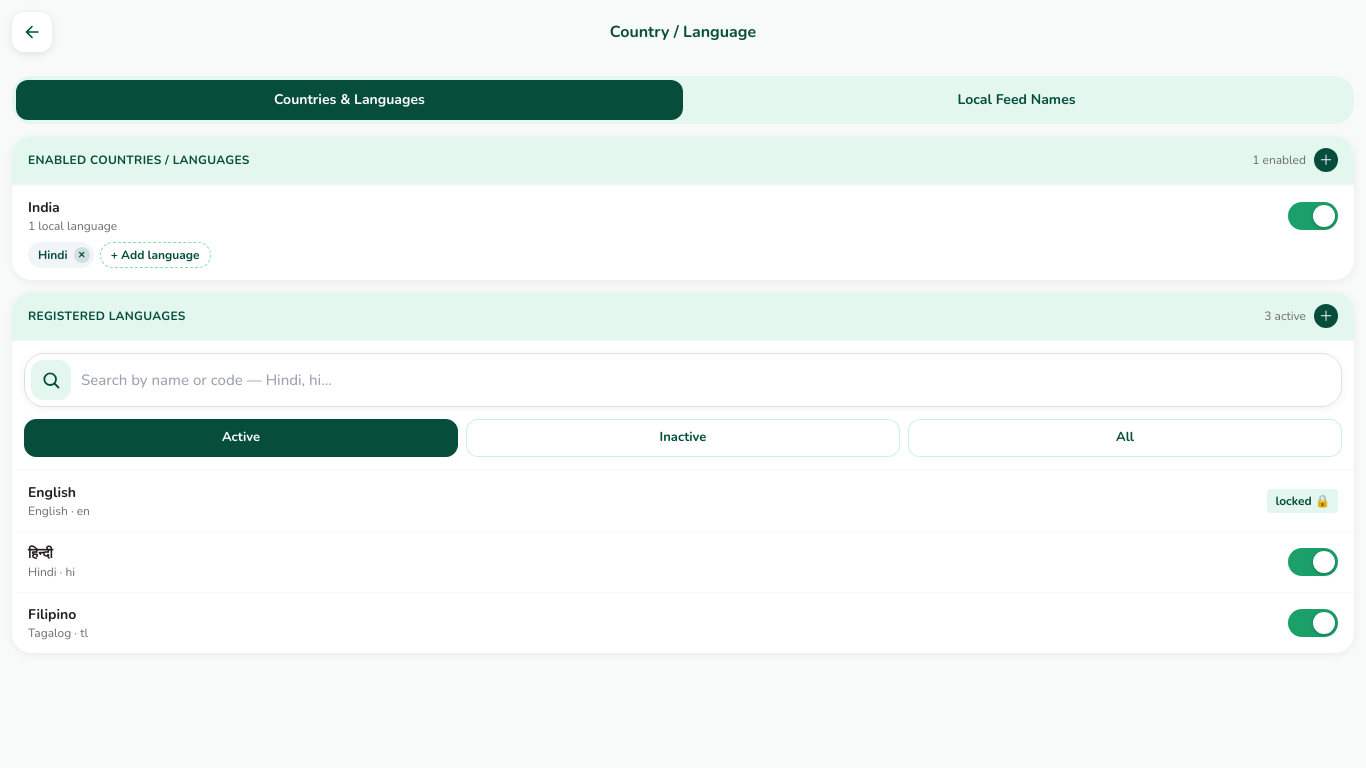
Scenario: Admin Country/Language — Countries & Languages screen › sends the code as typed and shows the code the API saved (W10)
Click the button named "Register a new language" at (1326, 316), box [1314,304,1338,328]
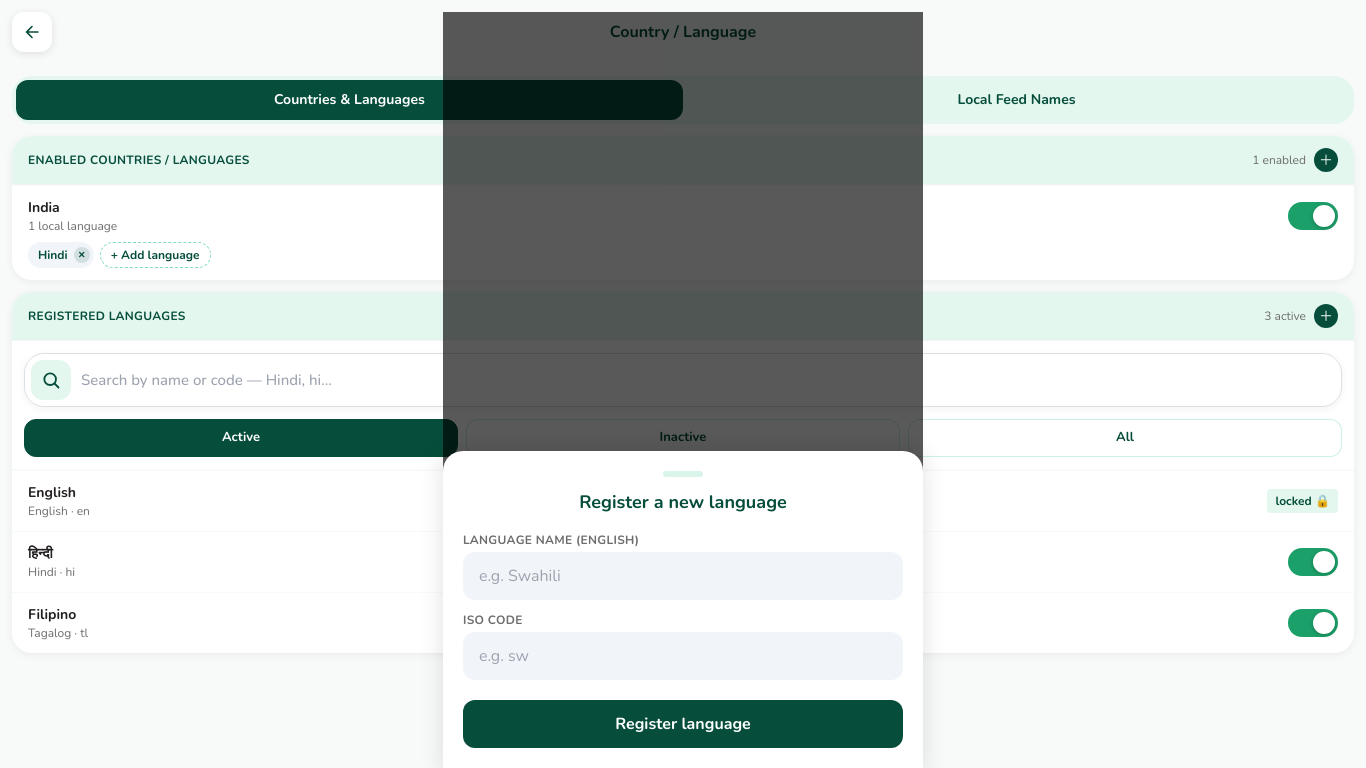
Type "Bengali" into the field with placeholder "e.g. Swahili" at (683, 576), box [463,552,903,600]
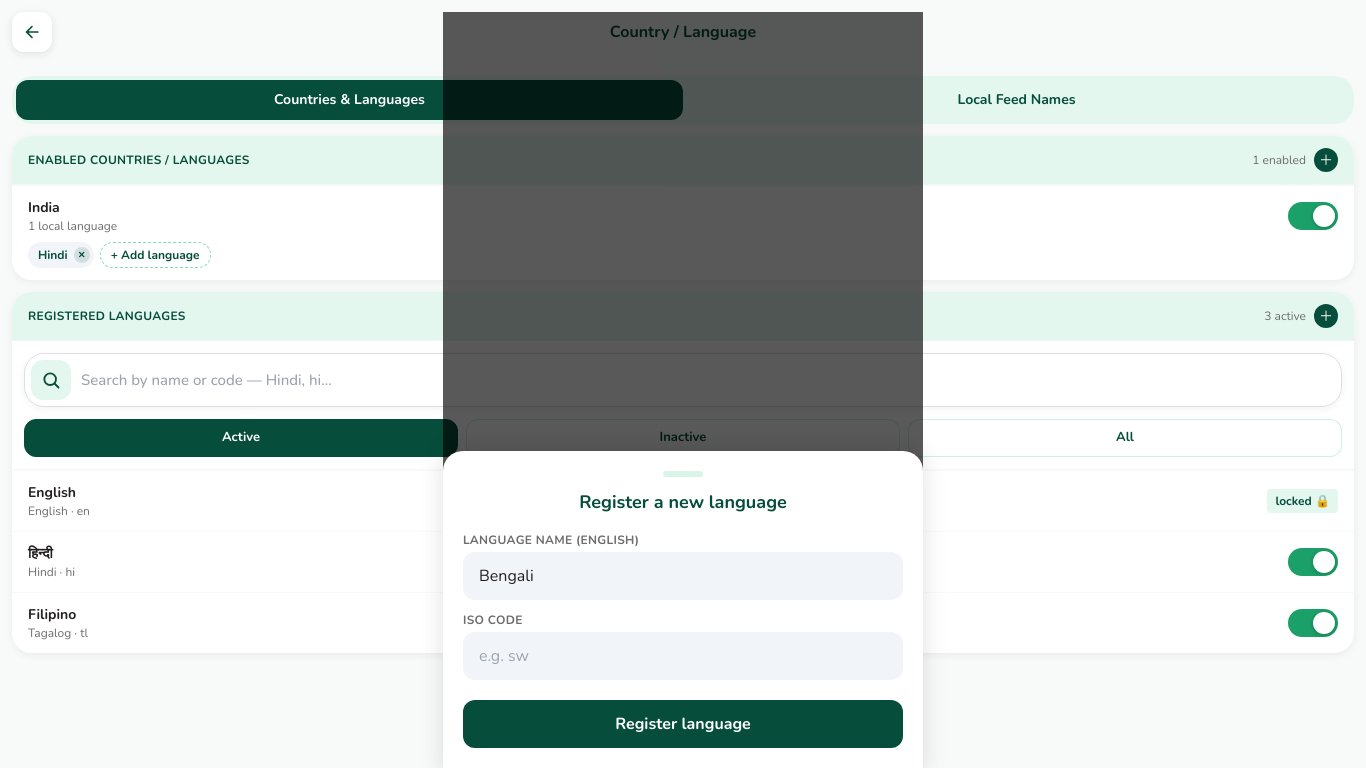
Type "BEN" into the field with placeholder "e.g. sw" at (683, 656), box [463,632,903,680]
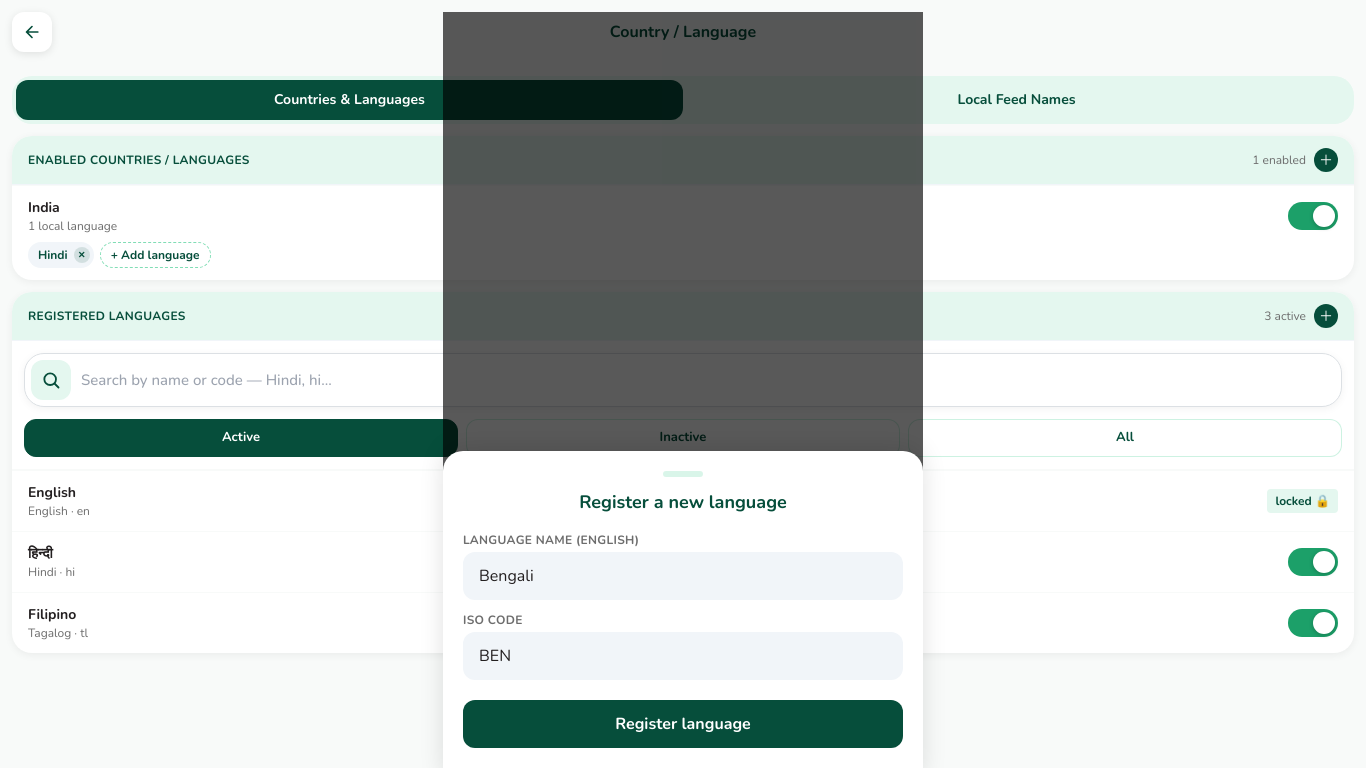
Click the button "Register language" at (683, 724), box [463,700,903,748]
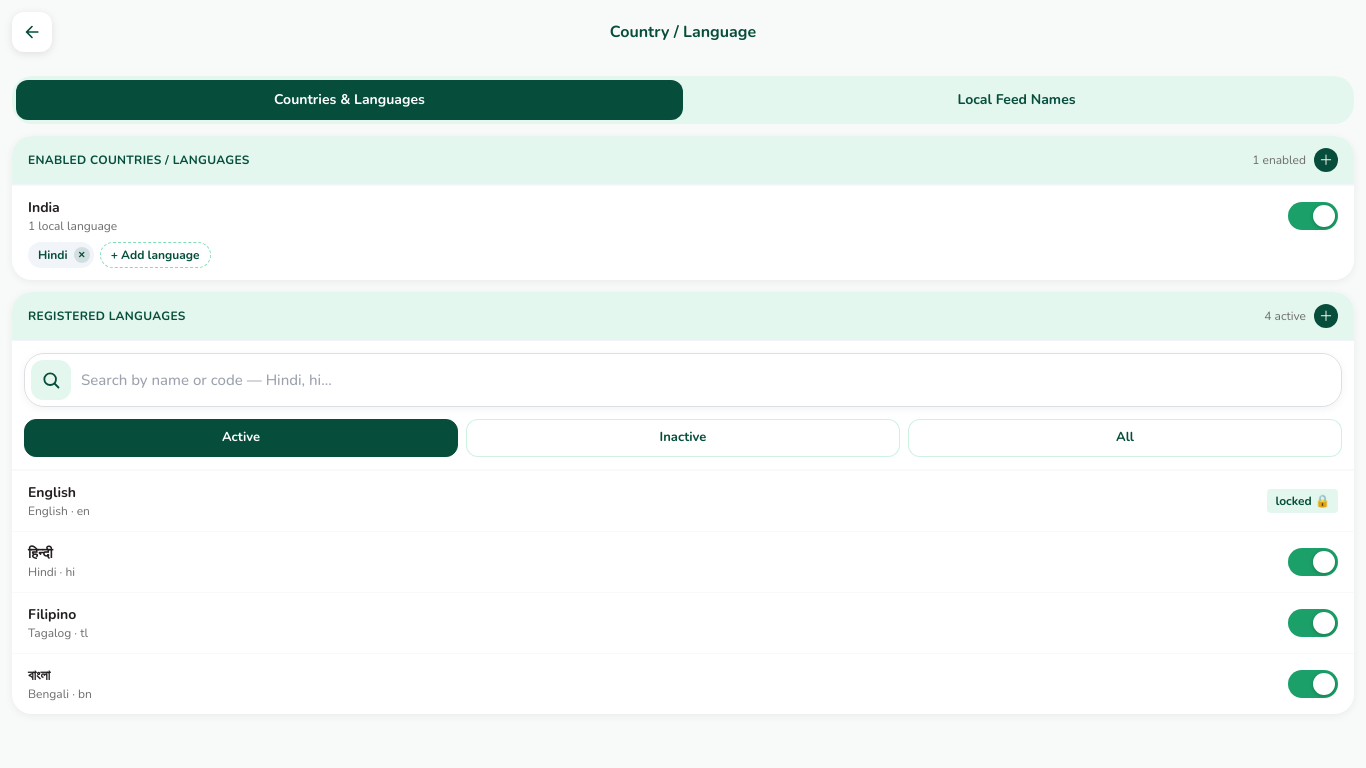
Now the checkbox named "Deactivate Bengali" is shown, box [1288,670,1338,698]
